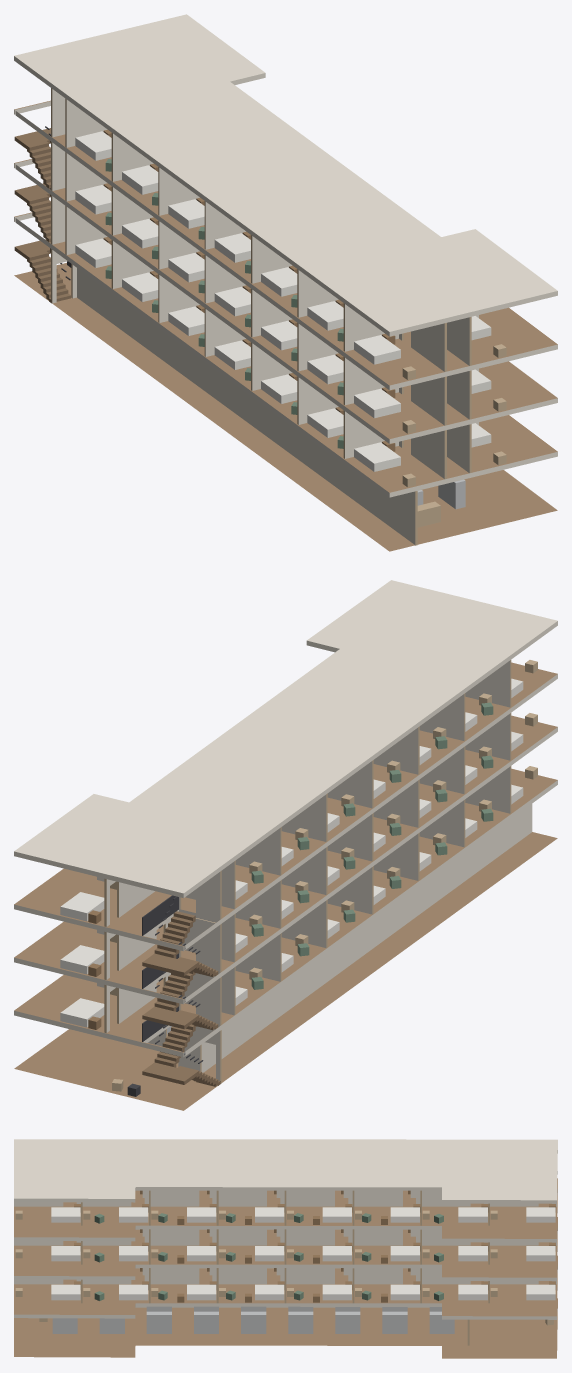
File: interior.glb
The picture shows the model from 3 angles, top to bottom: view 1: azimuth 30°, elevation 25°; view 2: azimuth 150°, elevation 25°; view 3: azimuth 270°, elevation 25°; orthographic projection. The views are drawn at different scales.
Parts seen in each view (by area): view 1: slabs, partitions, coarse-s3, coarse-s1, coarse-s2, stair, coarse-s0; view 2: slabs, partitions, stair, coarse-s3, coarse-s2, coarse-s1; view 3: slabs, partitions, coarse-s0, coarse-s1, coarse-s2, coarse-s3.
Part boxes in pixels (x1,y1,x2,y2): slabs: (14,14,557,551); partitions: (51,88,478,545); coarse-s3: (75,129,506,379); coarse-s1: (75,237,506,487); coarse-s2: (75,183,506,433); stair: (14,126,70,302); coarse-s0: (67,261,465,527); slabs: (14,580,557,1110); partitions: (97,660,532,1083); stair: (142,895,220,1086); coarse-s3: (60,660,537,923); coarse-s2: (60,713,537,976); coarse-s1: (60,766,537,1029); slabs: (14,1139,557,1358); partitions: (14,1190,556,1345); coarse-s0: (39,1306,553,1333); coarse-s1: (15,1268,555,1302); coarse-s2: (15,1229,555,1263); coarse-s3: (15,1190,555,1224).
Size of the model in its own units: 9.82 by 11.9 by 36.94.
